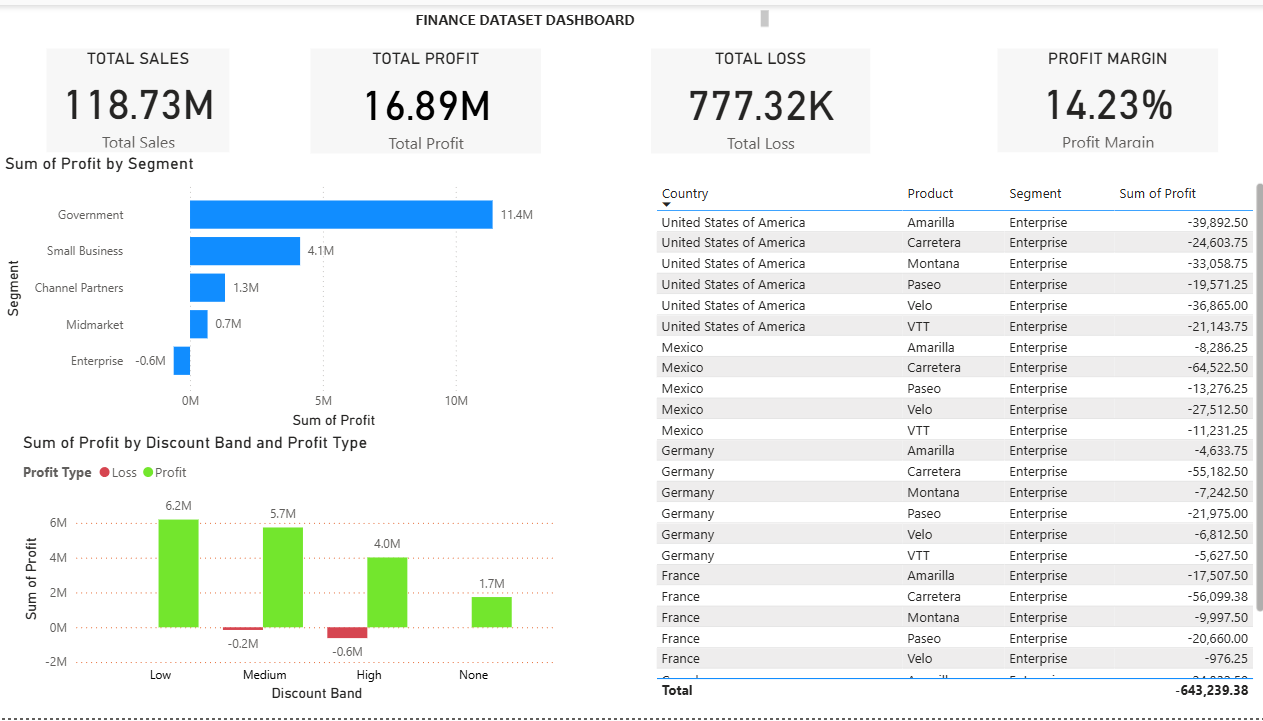

Layout of this report page (visuals, bound fields, positions):
{"tool":"powerbi","page":{"name":"Page 1","canvas":[1280,720],"ordinal":0},"visuals":[{"type":"tableEx","fields":{"Values":["financials.Country","financials.Product","financials.Segment","Sum(financials.Profit)"]},"box":[655.8,145.7,625,560.3],"z":0},{"type":"barChart","fields":{"Y":["Sum(financials.Profit)"],"Category":["financials.Segment"]},"box":[0,119.8,557,280.1],"z":1000},{"type":"clusteredColumnChart","fields":{"Category":["financials.Discount Band"],"Y":["Sum(financials.Profit)"],"Series":["financials.Profit Type"]},"box":[19.4,399.9,548.9,306],"z":2000},{"type":"card","title":"TOTAL SALES","fields":{"Values":["financials.Total Sales"]},"box":[19.4,17.8,184.6,95.5],"z":3000},{"type":"card","title":"TOTAL PROFIT","fields":{"Values":["financials.Total Profit"]},"box":[310.9,17.8,233.2,105.2],"z":4000},{"type":"card","title":"TOTAL LOSS","fields":{"Values":["financials.Total Loss"]},"box":[655.8,17.8,221.8,105.2],"z":5000},{"type":"card","title":"PROFIT MARGIN","fields":{"Values":["financials.Profit Margin"]},"box":[1003.9,14.6,223.5,105.2],"z":6000}]}

Visuals, with their boxes in screenshot pixels (x1, y1, x2, y2), scaled from the page's 1280x720 canvas onto the 1263x721 screenshot:
tableEx - financials.Country x financials.Product: 647 146 1262 707
barChart - Sum(financials.Profit) x financials.Segment: 0 120 550 400
clusteredColumnChart - financials.Discount Band x Sum(financials.Profit): 19 400 561 707
"TOTAL SALES" card: 19 18 201 113
"TOTAL PROFIT" card: 307 18 537 123
"TOTAL LOSS" card: 647 18 866 123
"PROFIT MARGIN" card: 991 15 1211 120
